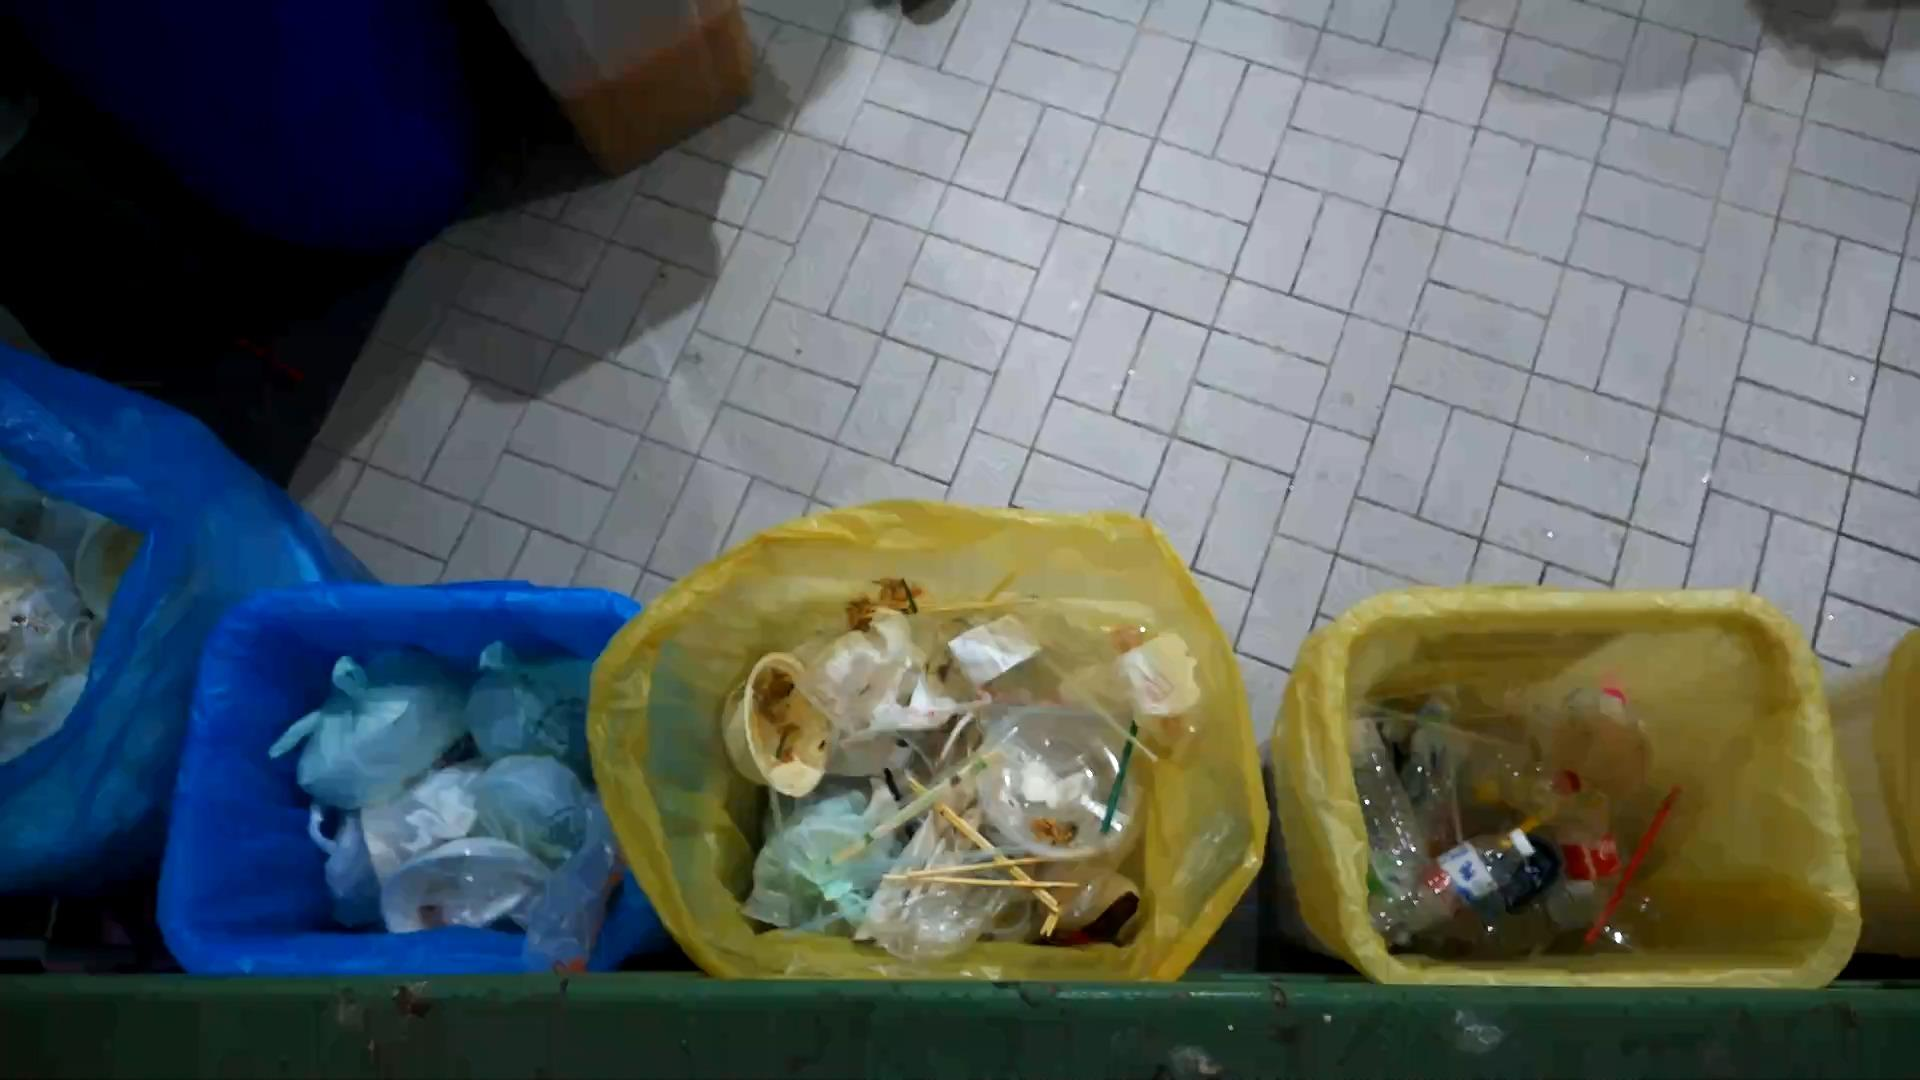dirty food container: (716, 650, 825, 800)
filled plastic bag: (264, 629, 462, 837), (787, 611, 1000, 786), (851, 785, 1017, 967), (737, 808, 899, 967), (467, 640, 601, 769)
food container: (964, 704, 1147, 864)
plastic bag: (359, 756, 533, 932), (501, 779, 632, 988)
plastic bottle: (1367, 824, 1542, 951), (1332, 696, 1436, 893), (1549, 765, 1629, 932)
plastic cup: (1095, 597, 1228, 735)
sticks: (903, 777, 1071, 918), (822, 742, 1005, 868), (878, 852, 1088, 891), (856, 589, 1043, 612), (1036, 876, 1076, 943)
straw: (1582, 783, 1687, 955), (1038, 649, 1167, 765), (1360, 690, 1543, 765), (1423, 690, 1482, 852), (1096, 716, 1141, 843)
tissue paper: (1004, 749, 1085, 823)
